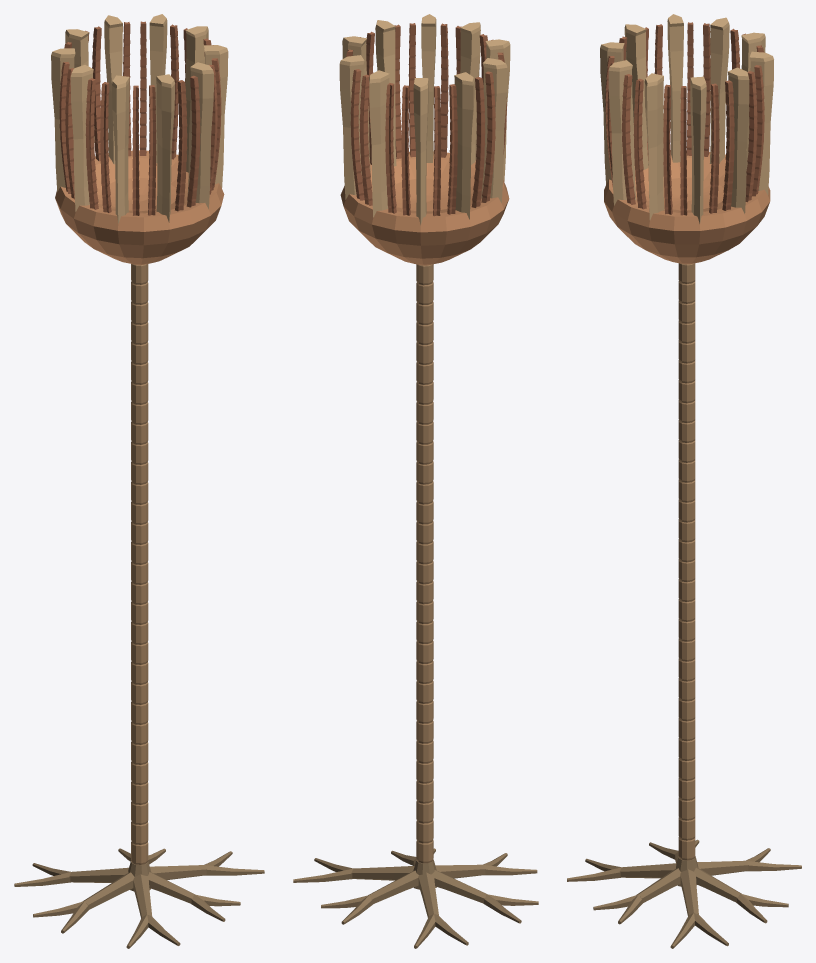
3 views of the same model, side by side, from view 1: azimuth 30°, elevation 25°; view 2: azimuth 150°, elevation 25°; view 3: azimuth 270°, elevation 25° (orthographic).
Parts seen in each view (by area): view 1: partitions, arms, stem, calyx, holdfast; view 2: partitions, arms, stem, calyx, holdfast; view 3: partitions, arms, stem, calyx, holdfast.
Part boxes in pixels (x1=…): partitions: x1=51, y1=14, x2=228, y2=223; arms: x1=59, y1=21, x2=221, y2=215; stem: x1=131, y1=264, x2=148, y2=864; calyx: x1=55, y1=150, x2=224, y2=265; holdfast: x1=14, y1=848, x2=264, y2=948; partitions: x1=339, y1=14, x2=510, y2=225; arms: x1=346, y1=23, x2=506, y2=216; stem: x1=416, y1=264, x2=433, y2=863; calyx: x1=340, y1=151, x2=509, y2=265; holdfast: x1=293, y1=848, x2=538, y2=948; partitions: x1=600, y1=14, x2=773, y2=223; arms: x1=605, y1=22, x2=764, y2=215; stem: x1=678, y1=263, x2=695, y2=860; calyx: x1=604, y1=152, x2=770, y2=264; holdfast: x1=567, y1=839, x2=801, y2=948.
Bounding box in the file's own units: 0.065 × 0.24 × 0.0607.
